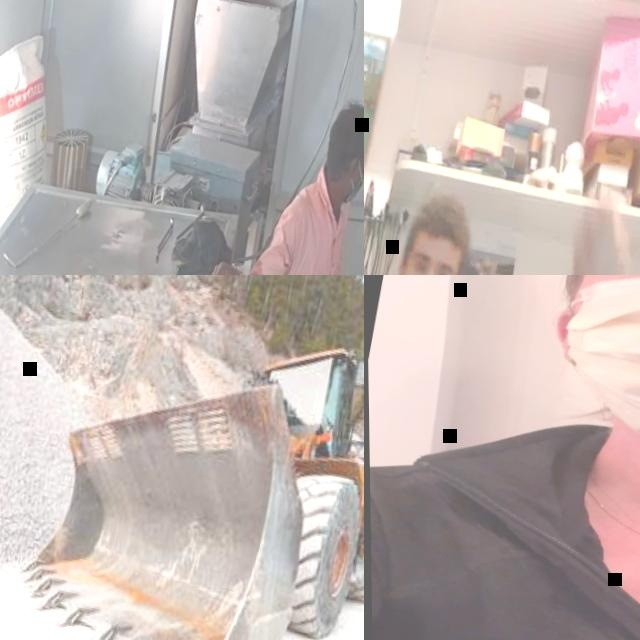Mask: (540, 275, 640, 477), (345, 163, 364, 201)
NO-Hardhat: (413, 191, 477, 255), (327, 96, 364, 146)
NO-Safety Vest: (367, 397, 640, 640), (254, 182, 364, 275)
Person: (364, 275, 640, 640), (364, 54, 640, 275), (186, 73, 364, 275)
machinery: (3, 293, 364, 640)
